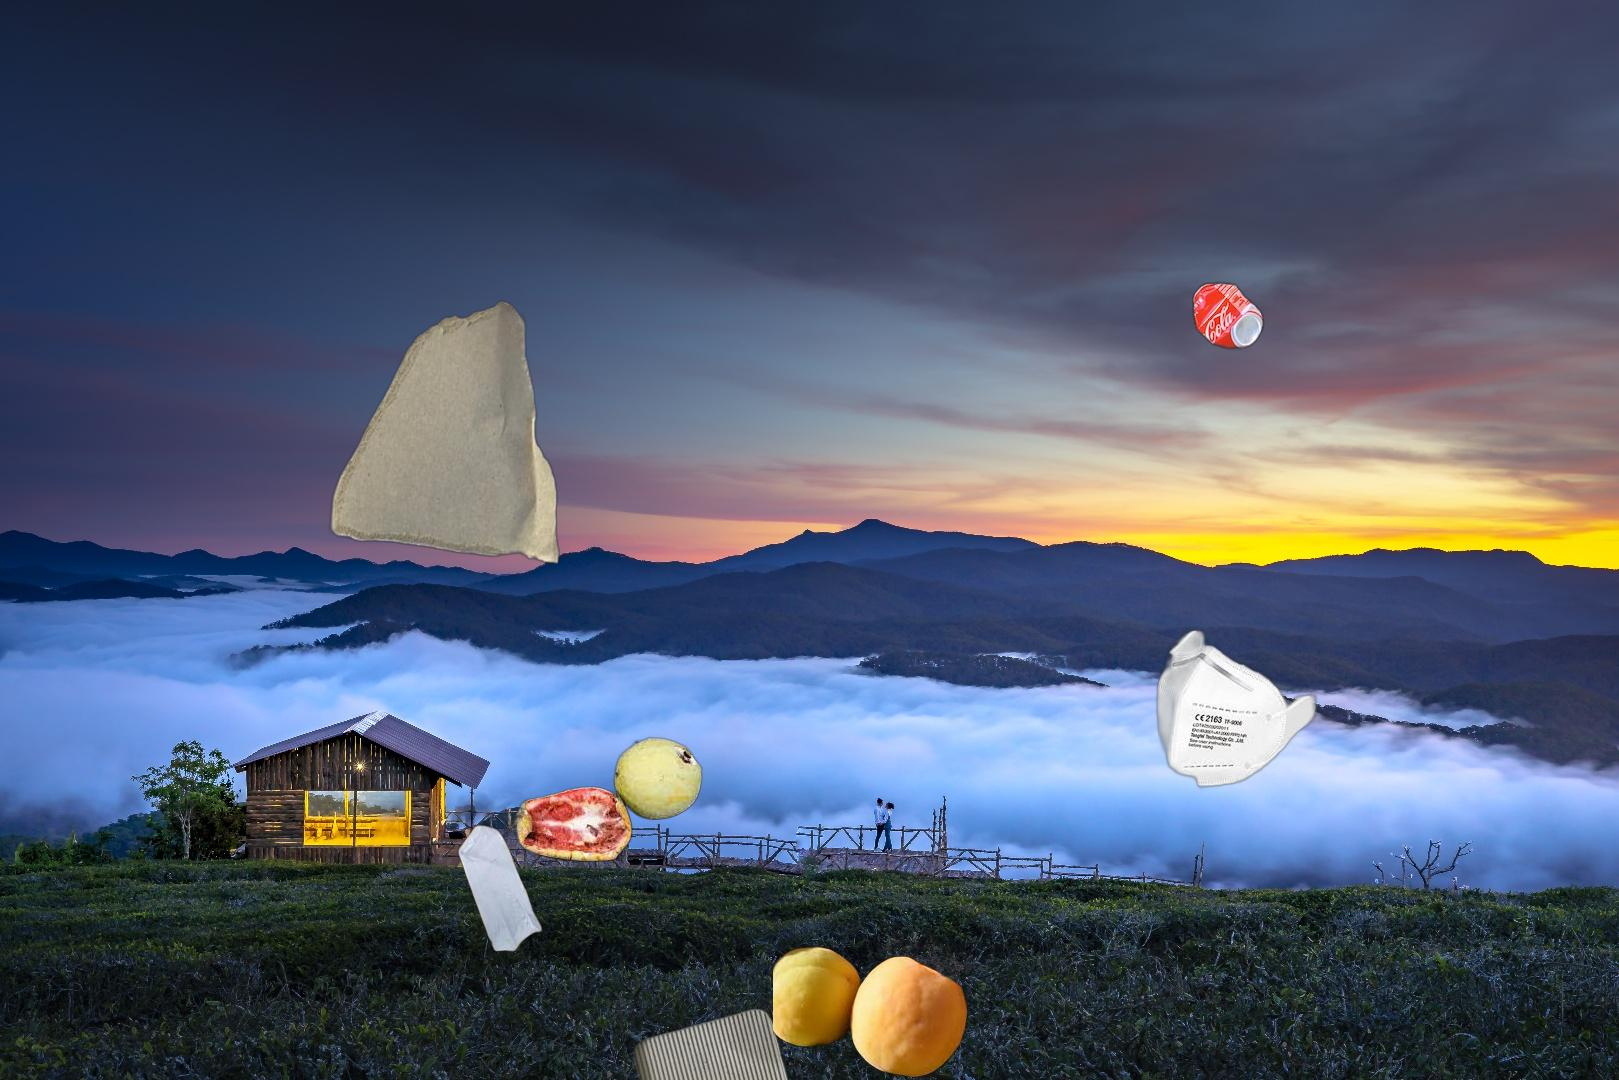biological: (773, 931, 1048, 1080), (509, 735, 705, 865)
metal-cans: (1187, 277, 1268, 356)
paper: (550, 724, 852, 1080), (325, 299, 563, 568), (219, 1012, 731, 1080)
plastic-bag: (454, 822, 545, 953)
trash: (1154, 626, 1318, 791)
